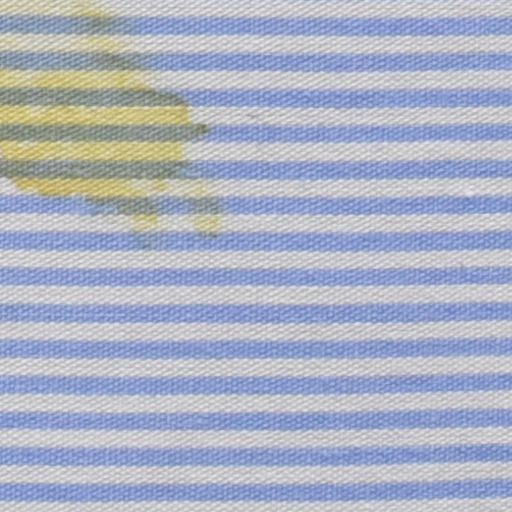defect: (1, 1, 194, 225)
